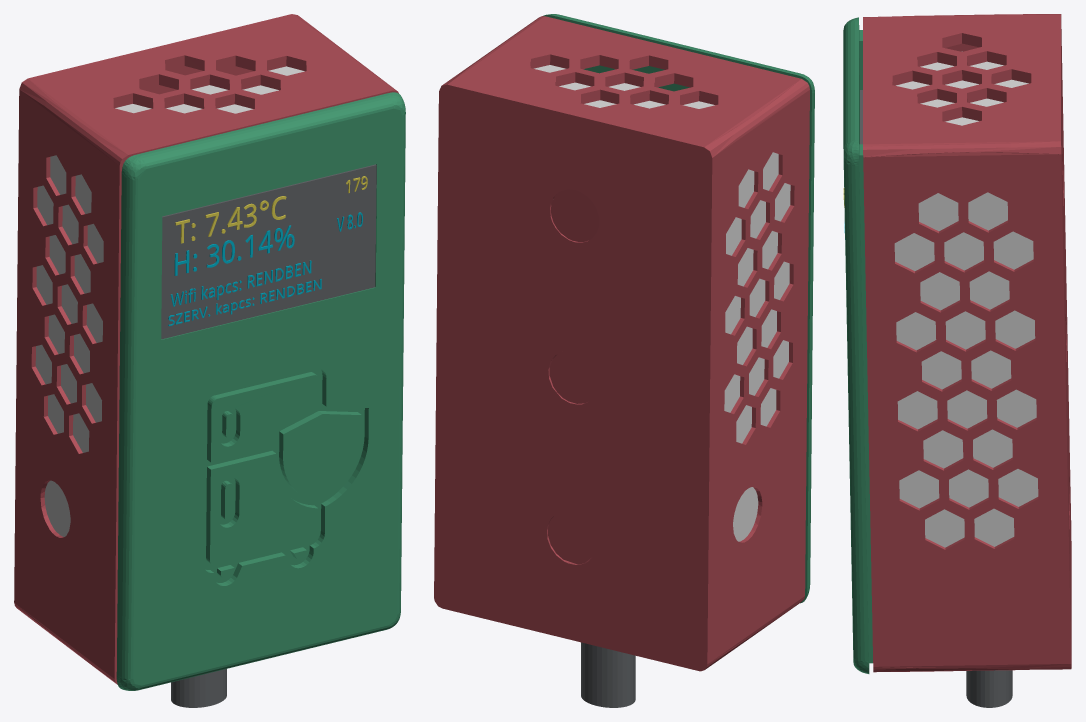
File: piros_zold.glb
The picture shows the model from 3 angles, left to right: view 1: azimuth 30°, elevation 25°; view 2: azimuth 150°, elevation 25°; view 3: azimuth 270°, elevation 25°; orthographic projection. The views are drawn at different scales.
Visible parts, largest first — view 1: Mesh_Mesh_head_geo.001_lambert2SG.001; view 2: Mesh_Mesh_head_geo.001_lambert2SG.001; view 3: Mesh_Mesh_head_geo.001_lambert2SG.001.
Part boxes in pixels (x1,y1,x2,y2): Mesh_Mesh_head_geo.001_lambert2SG.001: (14, 14, 405, 707); Mesh_Mesh_head_geo.001_lambert2SG.001: (434, 14, 814, 707); Mesh_Mesh_head_geo.001_lambert2SG.001: (843, 14, 1071, 707).
Size of the model in its own units: 33 by 70.15 by 23.52.
